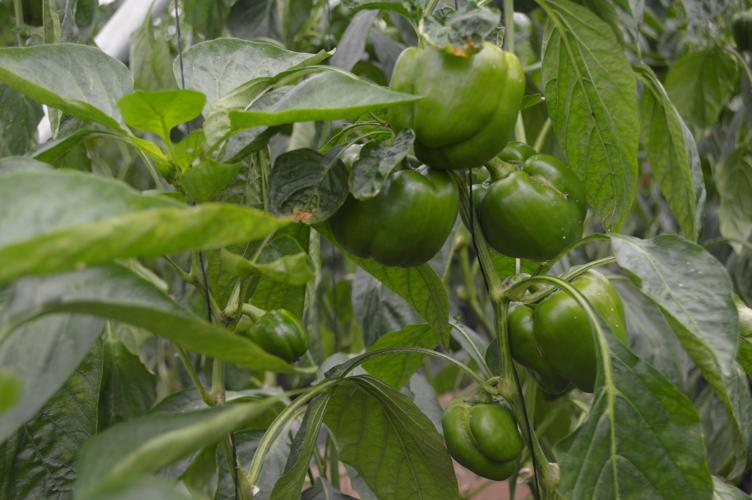BellPepper: (381, 35, 521, 175), (328, 168, 456, 296), (509, 284, 635, 410), (478, 165, 580, 267), (428, 400, 517, 489), (235, 309, 304, 378)
